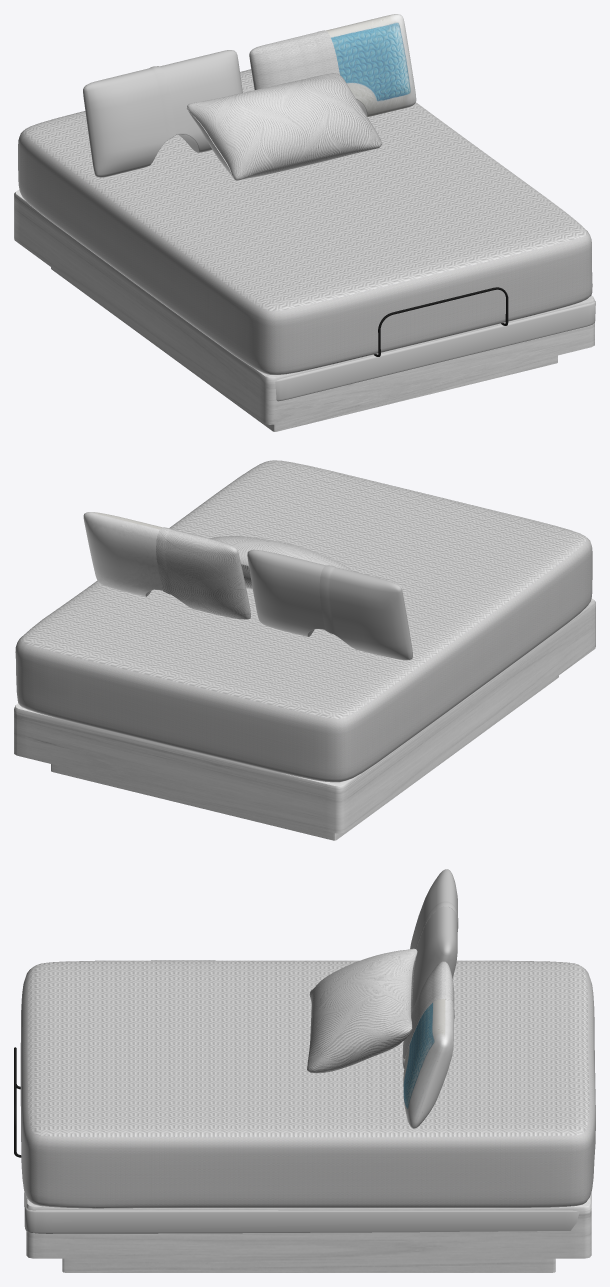
The picture shows the model from 3 angles, top to bottom: view 1: azimuth 30°, elevation 25°; view 2: azimuth 150°, elevation 25°; view 3: azimuth 270°, elevation 25°; orthographic projection. The views are drawn at different scales.
Visible parts, largest first — view 1: mattress-cover, base-regular, pillow-blend, pillow-lavender-cover, base-electric-topper, pillow-gel, pillow-lavender, pillow-gel-cover, base-electric-frame; view 2: mattress-cover, base-regular, pillow-lavender-cover, pillow-gel-cover, pillow-lavender, pillow-gel, pillow-blend; view 3: mattress-cover, base-regular, base-electric-topper, pillow-blend, pillow-gel, pillow-lavender, pillow-gel-cover, pillow-lavender-cover.
Part boxes in pixels (left/top/right/bottom): mattress-cover: left=18, top=69, right=592, bottom=374; base-regular: left=14, top=190, right=594, bottom=431; pillow-blend: left=187, top=73, right=381, bottom=180; pillow-lavender-cover: left=83, top=66, right=175, bottom=177; base-electric-topper: left=275, top=300, right=595, bottom=401; pillow-gel: left=326, top=14, right=416, bottom=116; pillow-lavender: left=160, top=50, right=242, bottom=152; pillow-gel-cover: left=249, top=30, right=339, bottom=89; base-electric-frame: left=374, top=287, right=508, bottom=356; mattress-cover: left=15, top=460, right=592, bottom=782; base-regular: left=14, top=598, right=595, bottom=840; pillow-lavender-cover: left=319, top=565, right=412, bottom=660; pillow-gel-cover: left=156, top=527, right=250, bottom=619; pillow-lavender: left=247, top=549, right=325, bottom=636; pillow-gel: left=83, top=512, right=162, bottom=596; pillow-blend: left=210, top=536, right=353, bottom=589; mattress-cover: left=20, top=960, right=595, bottom=1208; base-regular: left=26, top=1192, right=591, bottom=1272; base-electric-topper: left=24, top=1192, right=579, bottom=1233; pillow-blend: left=307, top=948, right=417, bottom=1073; pillow-gel: left=403, top=999, right=453, bottom=1128; pillow-lavender: left=411, top=906, right=457, bottom=1012; pillow-gel-cover: left=402, top=961, right=454, bottom=1068; pillow-lavender-cover: left=410, top=869, right=458, bottom=948.
Size of the model in its own units: 1.16 by 0.7348 by 1.57.
